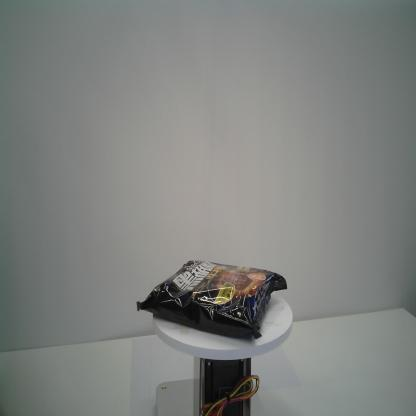Instant Noodles: (135, 260, 288, 341)
